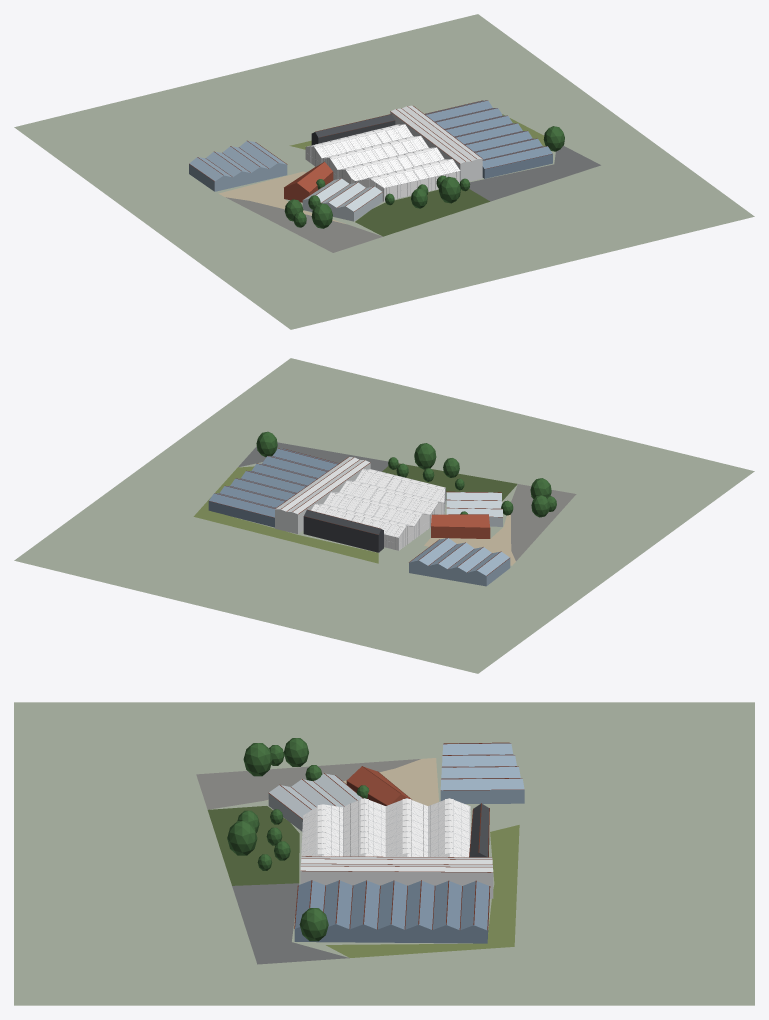
File: serre.glb
3 renders of one model, top to bottom at view 1: azimuth 30°, elevation 25°; view 2: azimuth 150°, elevation 25°; view 3: azimuth 270°, elevation 25°, orthographic. The views are drawn at different scales.
Visible parts, largest first — view 1: sol_exterieur, enveloppe_verre, voisin_serre_est, voisin_serre_nord_ouest, voisin_sol_massifs, voisin_arbres, voisin_sol_parking, voisin_sol_route, voisin_galerie, voisin_petite_serre, voisin_sol_cour, ouvrants_faitage (+4 smaller); view 2: sol_exterieur, enveloppe_verre, voisin_serre_est, voisin_serre_nord_ouest, voisin_arbres, voisin_galerie, voisin_sol_route, voisin_batiment_nord, voisin_sol_herbe_nord, voisin_sol_massifs, voisin_batiment_magasin, voisin_petite_serre (+5 smaller); view 3: sol_exterieur, voisin_serre_est, enveloppe_verre, voisin_galerie, voisin_arbres, voisin_serre_nord_ouest, voisin_sol_parking, voisin_sol_massifs, voisin_sol_route, voisin_sol_herbe_nord, voisin_petite_serre, vitrage_toit (+9 smaller).
Part boxes in pixels (x1,y1,x2,y2): sol_exterieur: [14, 14, 754, 329]; enveloppe_verre: [306, 124, 460, 201]; voisin_serre_est: [424, 100, 552, 178]; voisin_serre_nord_ouest: [189, 141, 287, 191]; voisin_sol_massifs: [355, 189, 489, 236]; voisin_arbres: [284, 126, 564, 228]; voisin_sol_parking: [469, 145, 600, 201]; voisin_sol_route: [226, 197, 382, 252]; voisin_galerie: [390, 105, 482, 181]; voisin_petite_serre: [302, 178, 382, 221]; voisin_sol_cour: [218, 171, 345, 223]; ouvrants_faitage: [313, 125, 448, 179]; sol_exterieur: [14, 358, 754, 673]; enveloppe_verre: [311, 469, 444, 550]; voisin_serre_est: [208, 448, 338, 527]; voisin_serre_nord_ouest: [409, 538, 510, 586]; voisin_arbres: [256, 431, 556, 517]; voisin_galerie: [275, 457, 370, 533]; voisin_sol_route: [511, 484, 576, 560]; voisin_batiment_nord: [303, 510, 383, 552]; voisin_sol_herbe_nord: [194, 510, 378, 563]; voisin_sol_massifs: [382, 463, 517, 500]; voisin_batiment_magasin: [431, 514, 490, 538]; voisin_petite_serre: [446, 492, 502, 526]; sol_exterieur: [14, 702, 754, 1005]; voisin_serre_est: [294, 880, 489, 943]; enveloppe_verre: [301, 798, 470, 857]; voisin_galerie: [300, 856, 493, 898]; voisin_arbres: [227, 738, 369, 941]; voisin_serre_nord_ouest: [440, 743, 524, 803]; voisin_sol_parking: [232, 883, 349, 964]; voisin_sol_massifs: [207, 806, 299, 885]; voisin_sol_route: [196, 759, 420, 809]; voisin_sol_herbe_nord: [487, 825, 519, 946]; voisin_petite_serre: [268, 773, 362, 831]; vitrage_toit: [302, 800, 469, 856].
Size of the model in its own units: 150 by 9.46 by 155.
